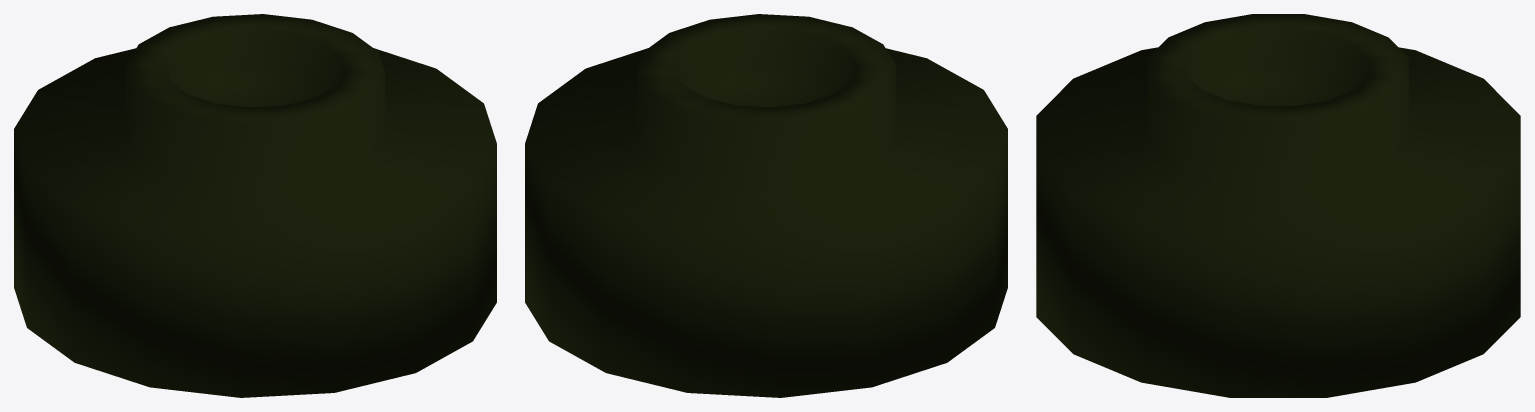
File: OBJ_Mines.fbx
3 renders of one model, left to right at view 1: azimuth 30°, elevation 25°; view 2: azimuth 150°, elevation 25°; view 3: azimuth 270°, elevation 25°, orthographic.
Visible parts, largest first — view 1: Cylinder.002; view 2: Cylinder.002; view 3: Cylinder.002.
Boxes of the visible parts, x1,y1,x2,y2 form: Cylinder.002: (14,14,496,397); Cylinder.002: (525,14,1007,397); Cylinder.002: (1036,14,1520,397).
Bounding box in the file's own units: 1218 × 643 × 1234.
